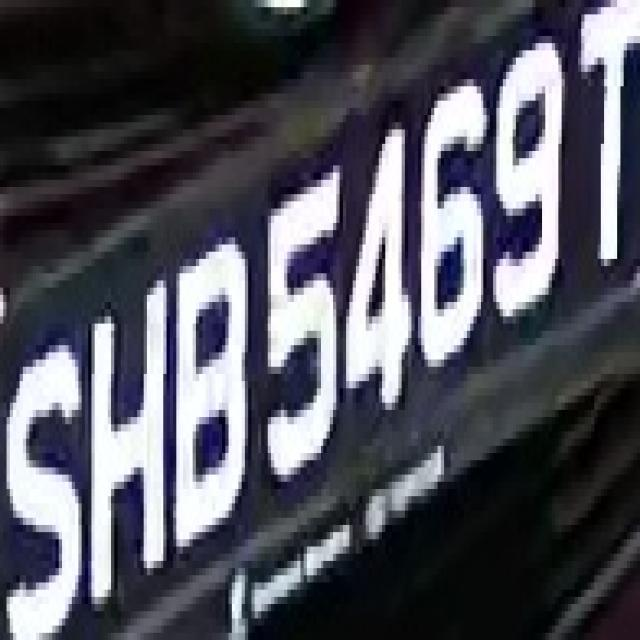4: (343, 108, 418, 446)
5: (261, 158, 353, 482)
6: (414, 36, 490, 403)
9: (483, 50, 578, 338)
B: (166, 216, 255, 568)
H: (85, 259, 179, 604)
S: (13, 309, 85, 626)
T: (565, 0, 640, 259)
